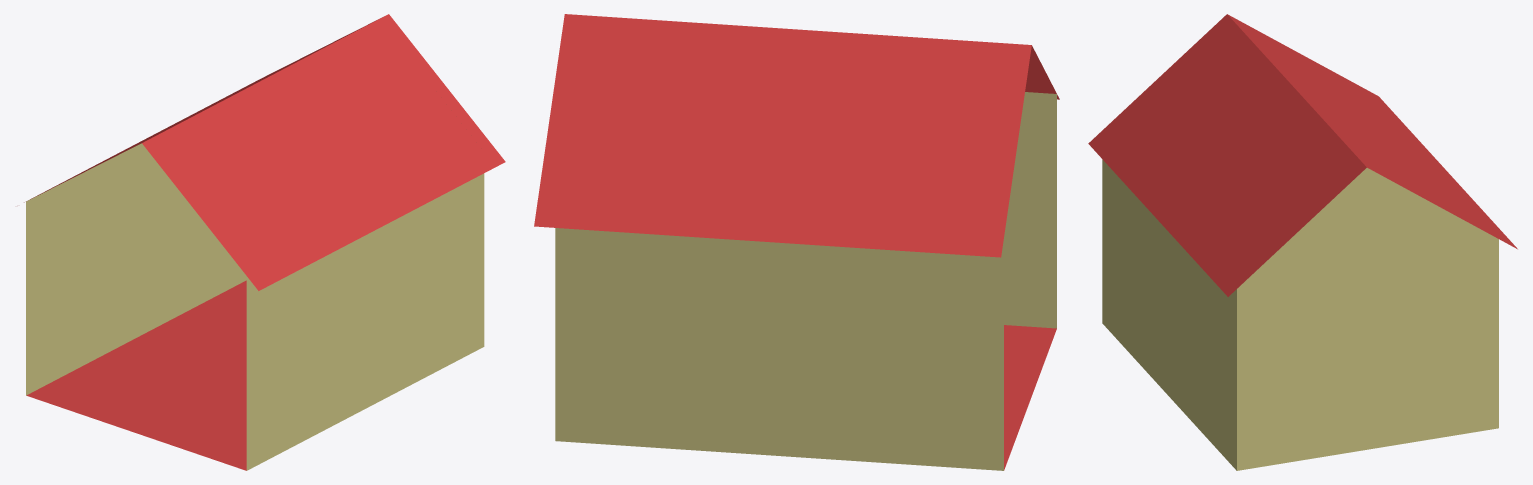
3 views of the same model, side by side, from view 1: azimuth 30°, elevation 25°; view 2: azimuth 150°, elevation 25°; view 3: azimuth 270°, elevation 25° (orthographic). The views are drawn at different scales.
Bounding box in the file's own units: 15.58 × 14.11 × 10.46.
